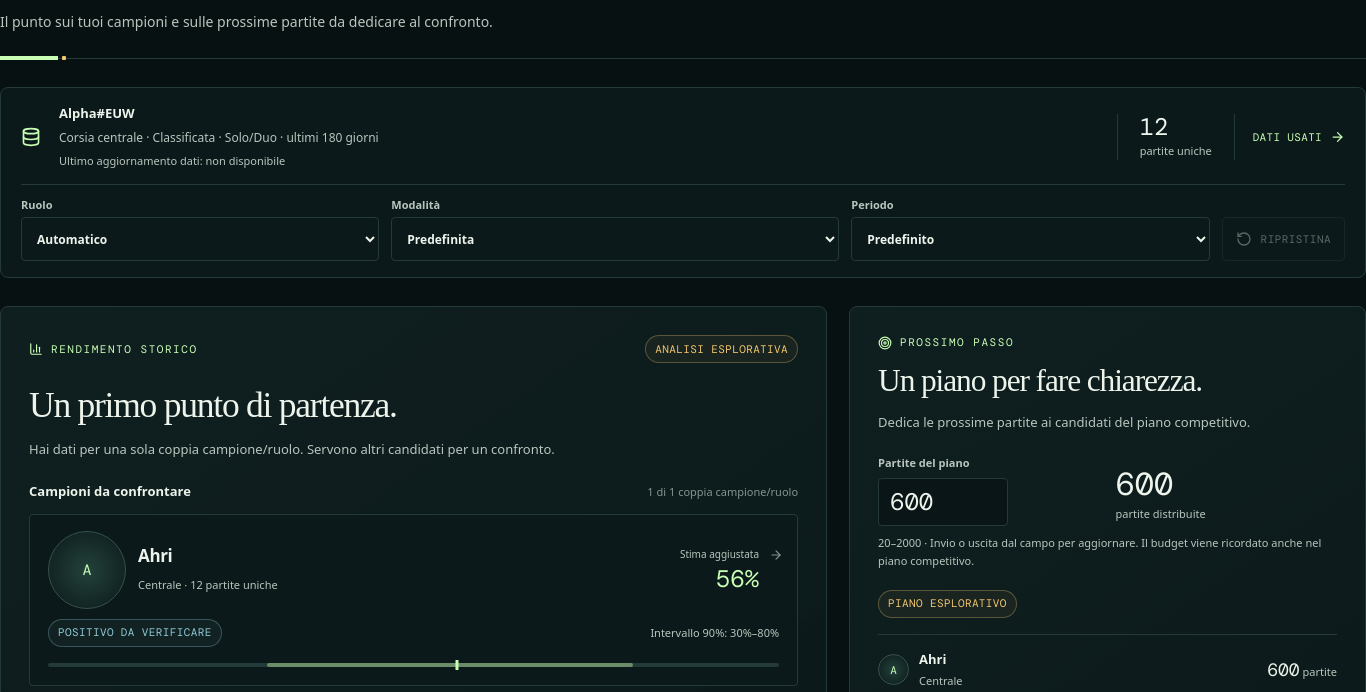
it: Filtri condivisi del Riepilogo › conferma la bozza  all’uscita dal campo con budget 600
Clear the number field labelled "Partite del piano" at (943, 502), box [878, 478, 1008, 526]
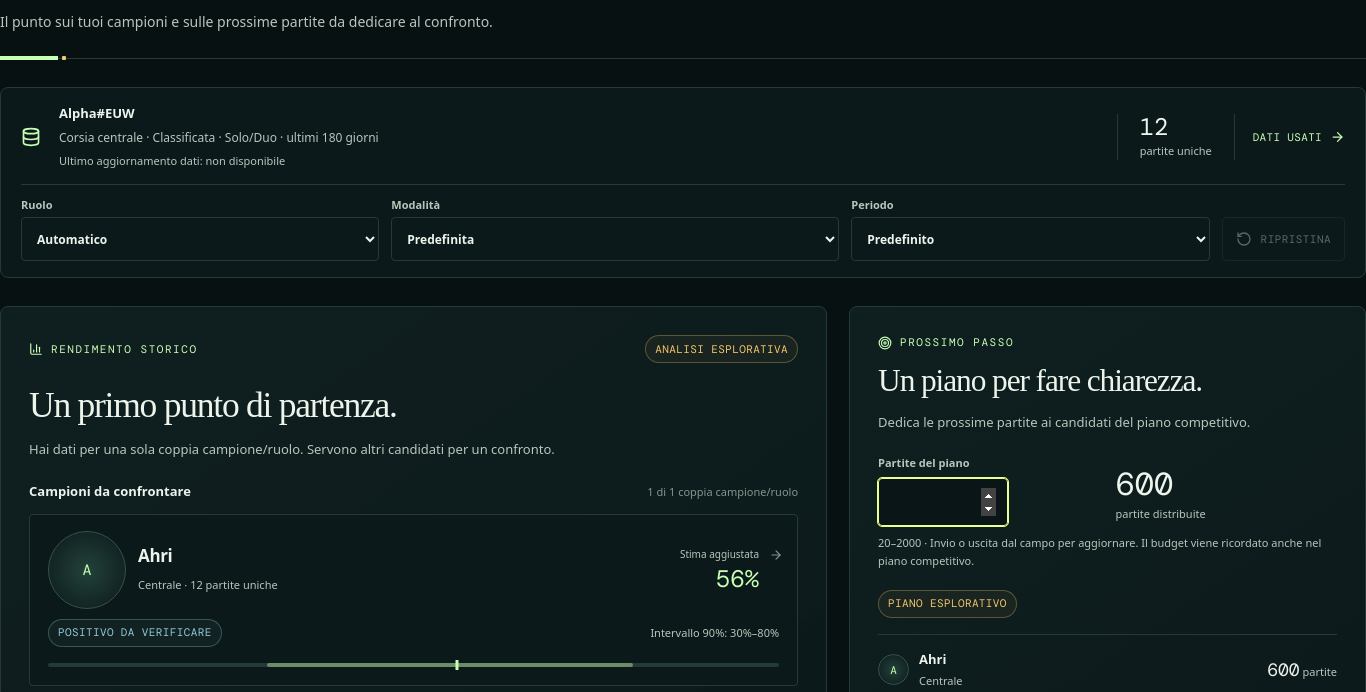
Press Tab
(page scrolled)
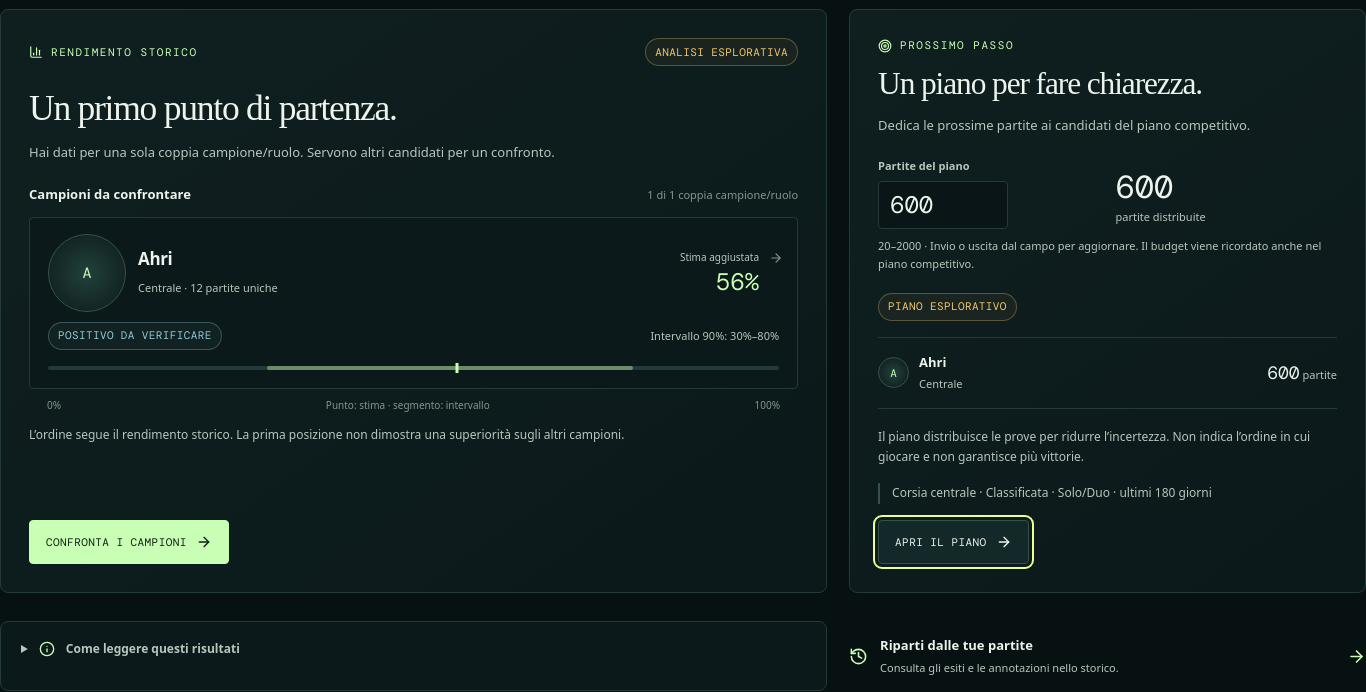
Result: the number field labelled "Partite del piano" holds "600" at [878, 181, 1008, 229]
